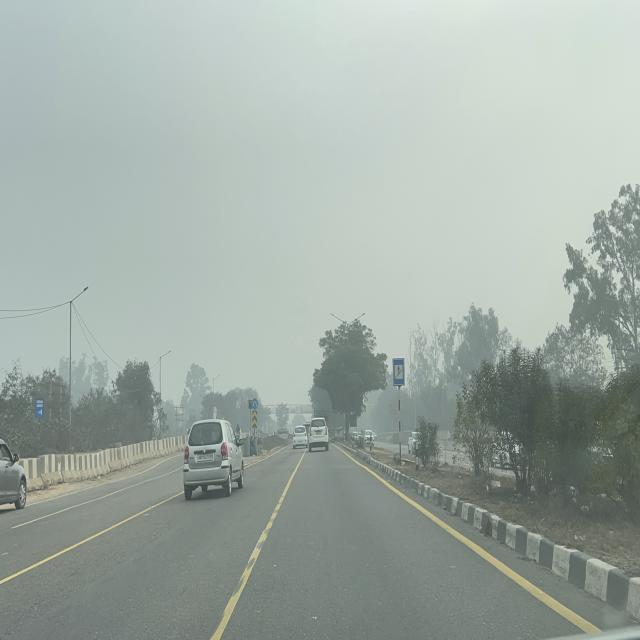INFORMATION: (393, 358, 405, 386), (36, 398, 44, 418)
KEEP_EITHER_SIDE: (252, 398, 258, 410)
